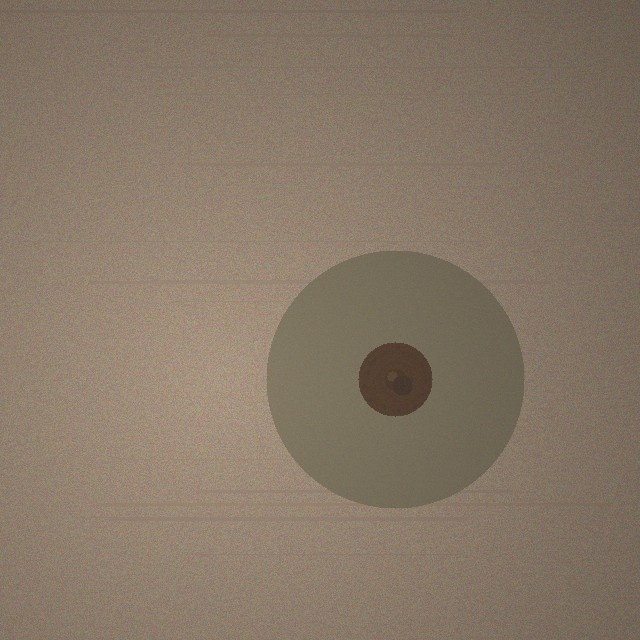cold_weld: (266, 250, 524, 508)
